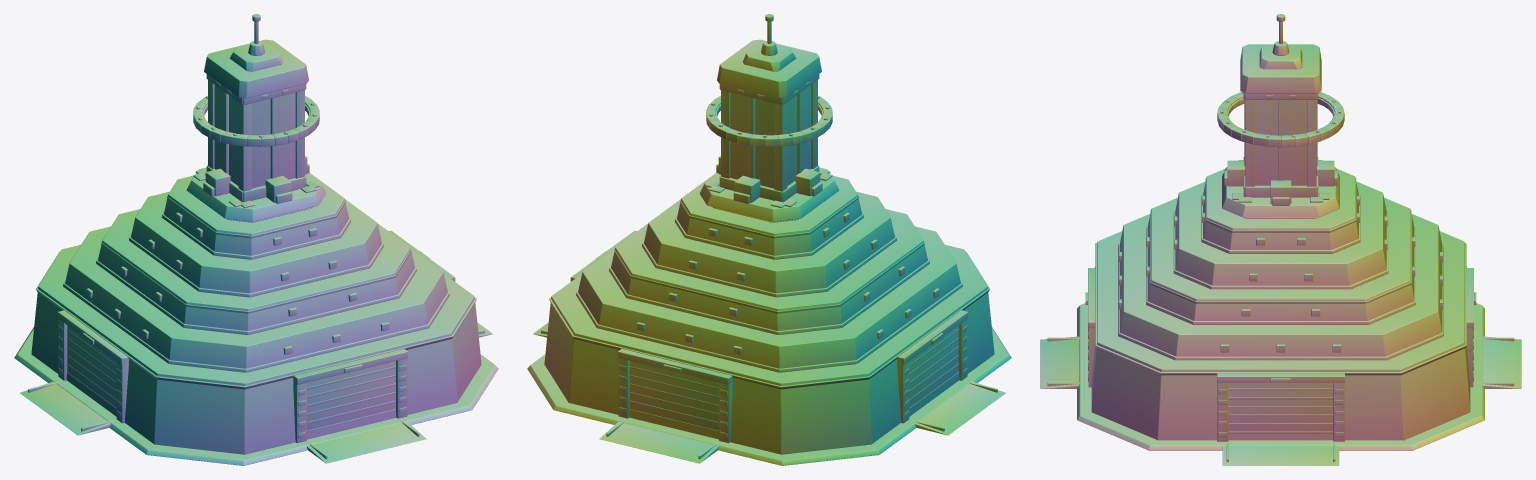
Rendered from hq_t3_rig.glb.
The picture shows the model from 3 angles, left to right: view 1: azimuth 30°, elevation 25°; view 2: azimuth 150°, elevation 25°; view 3: azimuth 270°, elevation 25°; orthographic projection.
Visible parts, largest first — view 1: body, spin_ring_0, door_0, door_2; view 2: body, spin_ring_0, door_3, door_2; view 3: body, spin_ring_0, door_1.
Part boxes in pixels (x1,y1,x2,y2): body: (14,14,498,465); spin_ring_0: (193,95,319,146); door_0: (307,366,395,432); door_2: (67,329,116,409); body: (527,14,1011,465); spin_ring_0: (706,95,832,146); door_3: (630,366,718,432); door_2: (909,329,958,409); body: (1040,14,1521,465); spin_ring_0: (1217,92,1344,147); door_1: (1228,388,1333,433).
Size of the model in its own units: 66 by 52.8 by 66.
